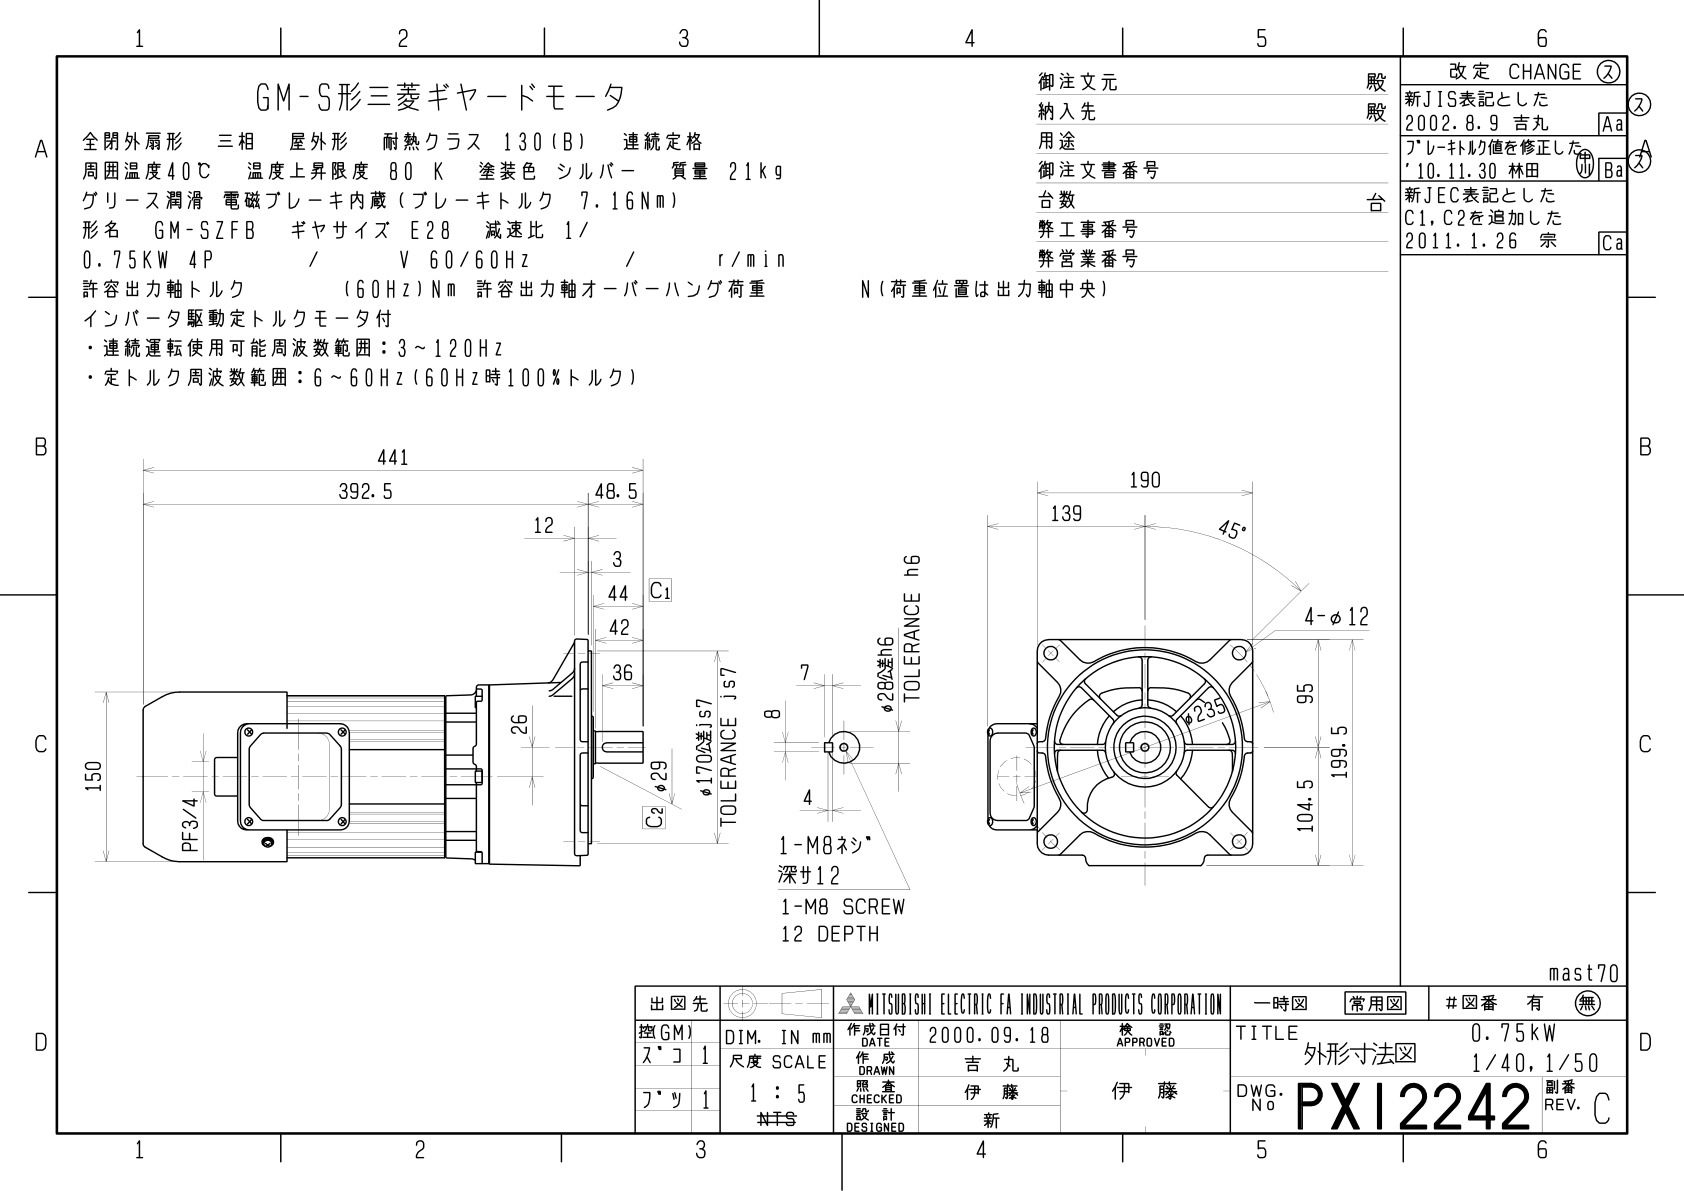GM_S_インバタ屋外＿三相_フランジ: (12, 10, 1684, 1191)
